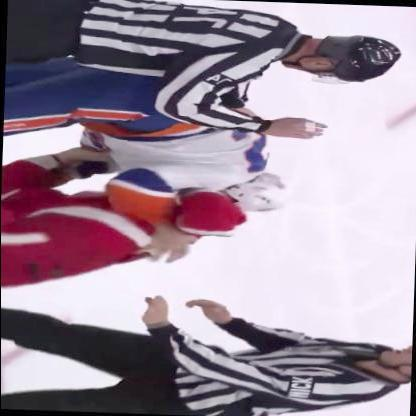voilence: (1, 97, 288, 274)
